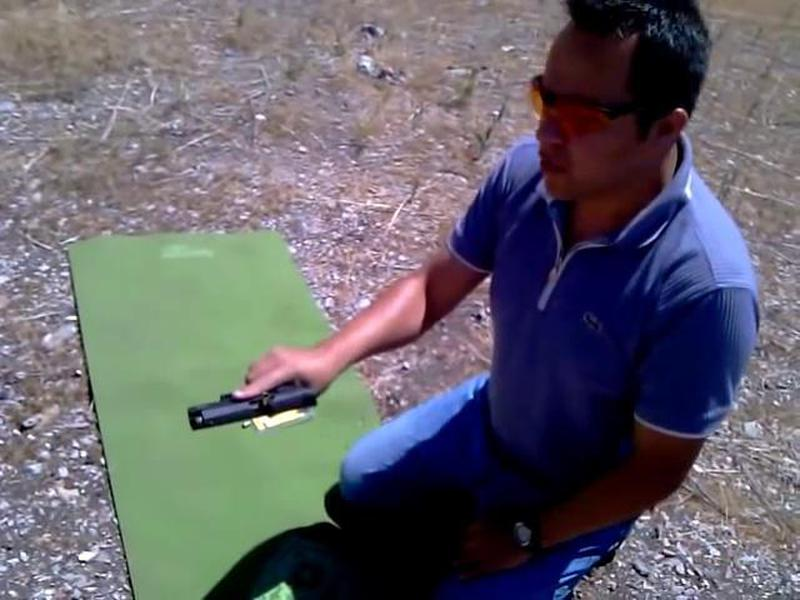Pistola: (167, 354, 338, 454)
